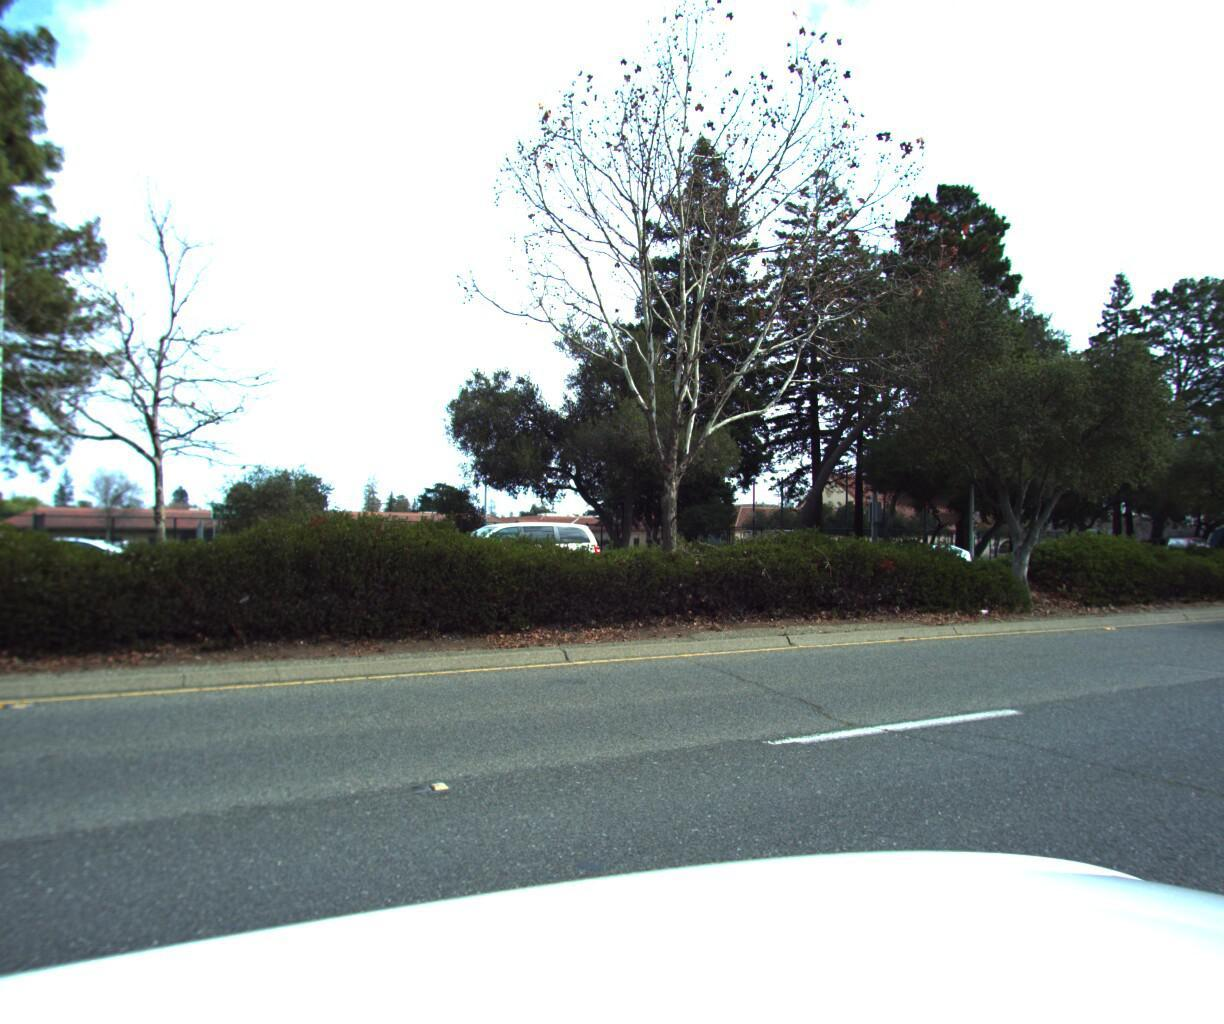car: (432, 517, 605, 588), (0, 534, 149, 605), (867, 536, 978, 577)
